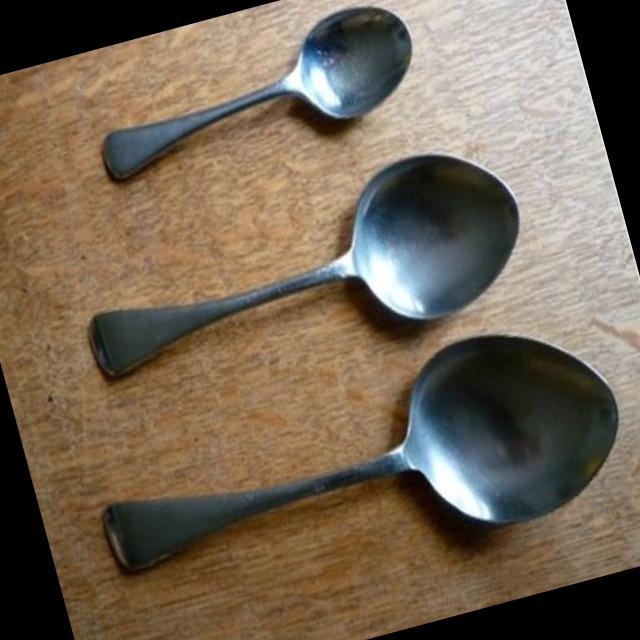spoon: (76, 0, 429, 204)
